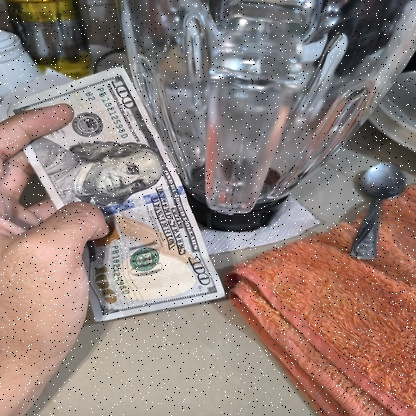one_hundred-front: (8, 65, 228, 323)
